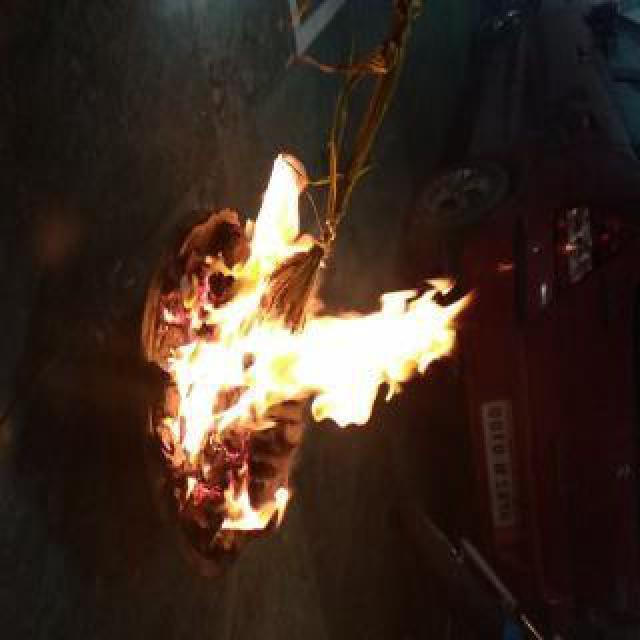Fire: (162, 160, 470, 524)
